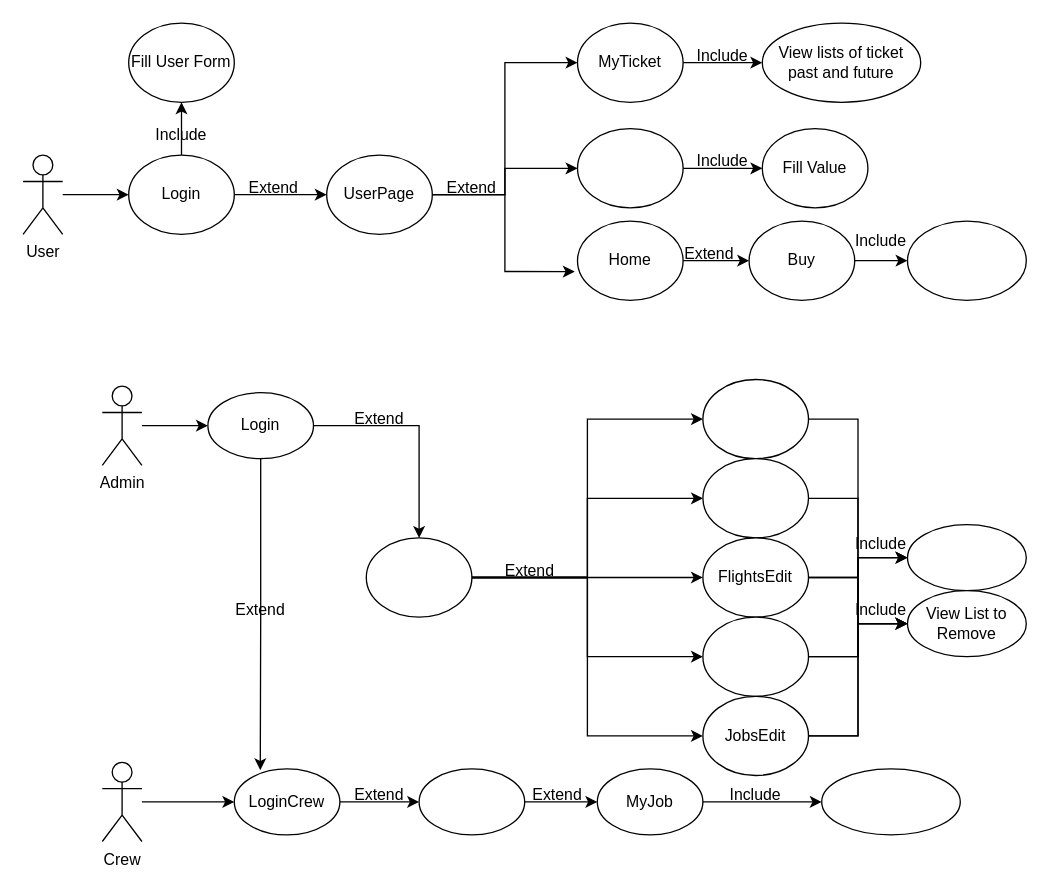
Some shapes in this 1049 by 892 pixel diagram are drawn without their labels. Each missing label, with the box of its shape:
AdminPage: (365, 537, 472, 617)
AirportEdit: (702, 378, 808, 459)
Choose Options: (906, 220, 1026, 300)
CrewPage: (418, 768, 525, 835)
Fill Form to Add: (906, 523, 1026, 591)
PathsEdit: (702, 457, 808, 538)
Topup: (576, 127, 683, 208)
UserEdit: (702, 616, 808, 696)
VIew List of jobs: (820, 768, 960, 835)
